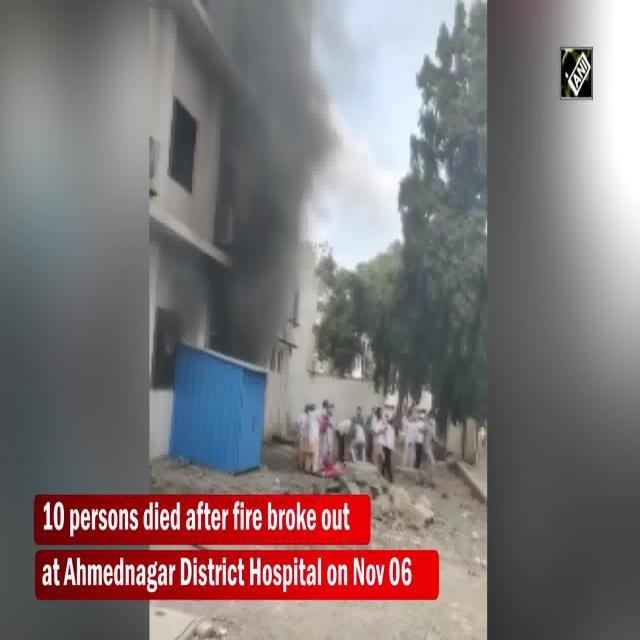Smoke: (246, 38, 300, 331)
